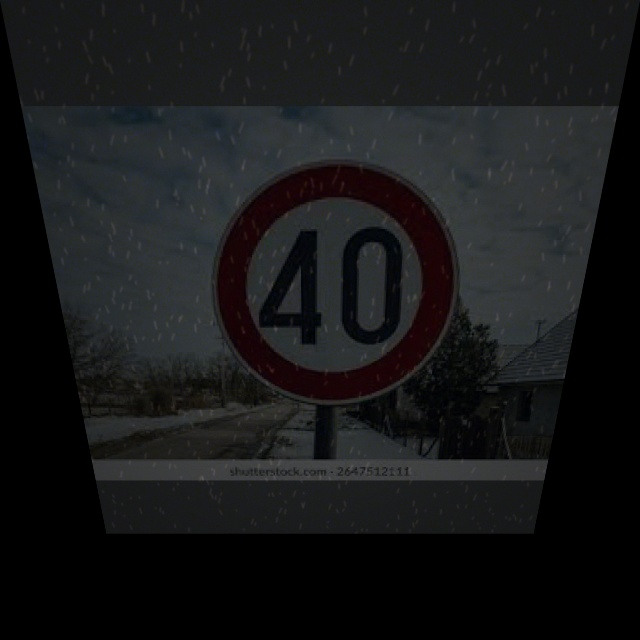Speed_Limit_40: (213, 163, 469, 400)
